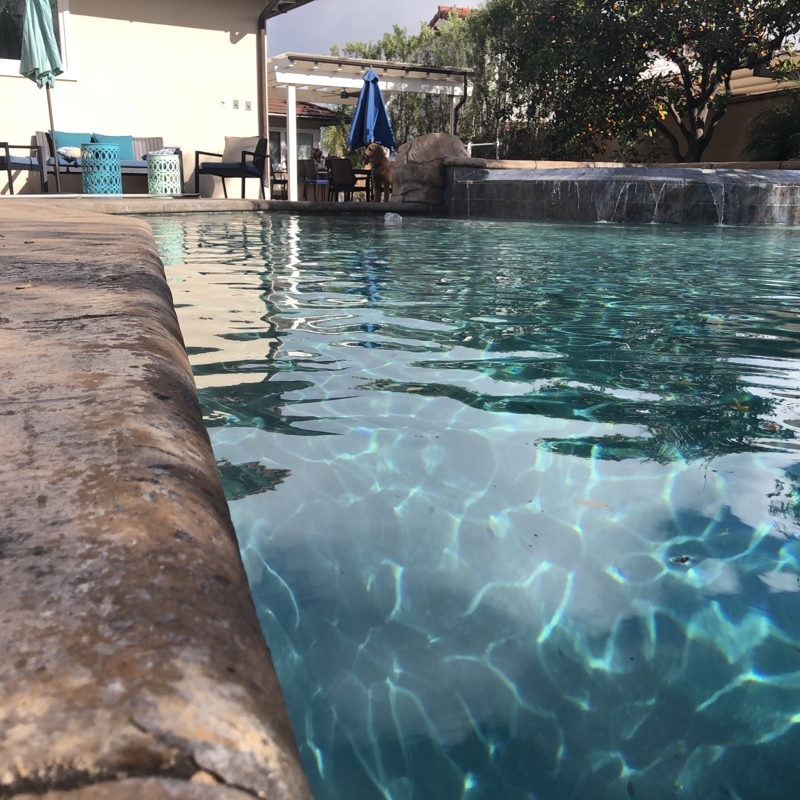Plastic Bottle: (383, 209, 401, 227)
